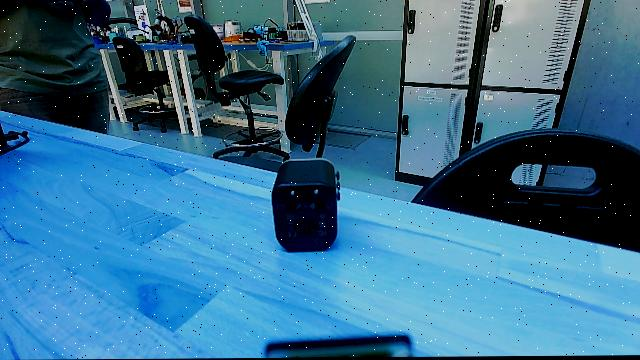adapter: (264, 154, 348, 264)
